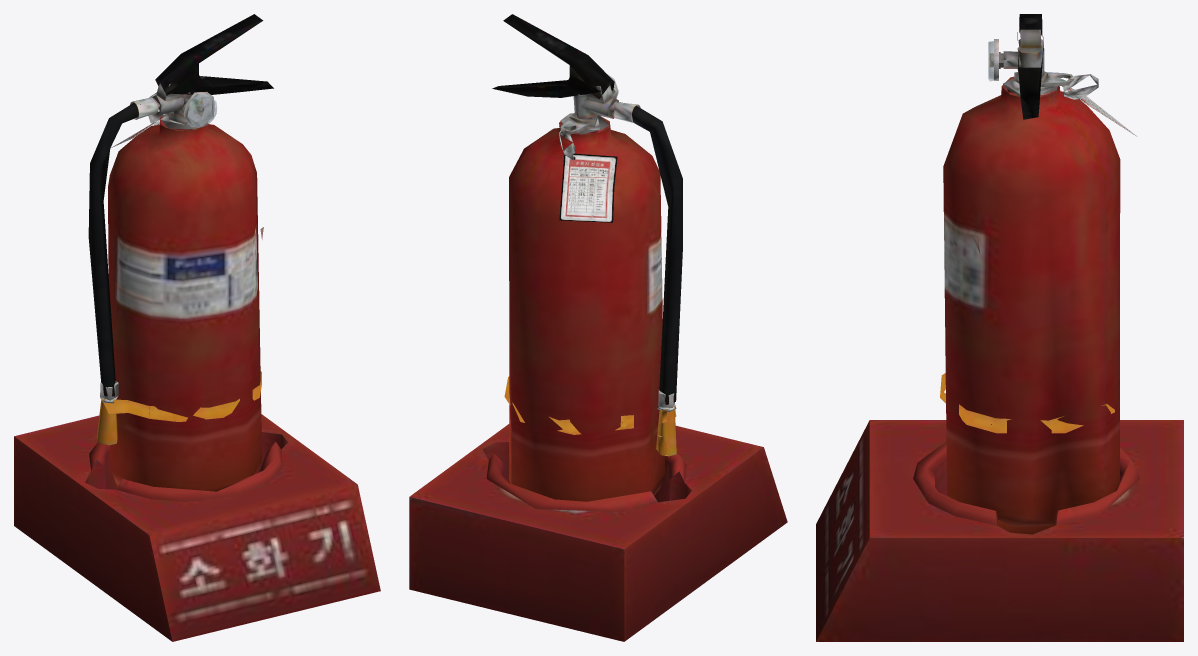
The model's file is korean_fire_extinguisher_01.glb.
3 renders of one model, left to right at view 1: azimuth 30°, elevation 25°; view 2: azimuth 150°, elevation 25°; view 3: azimuth 270°, elevation 25°, orthographic. The views are drawn at different scales.
Parts seen in each view (by area): view 1: korean_fire_extinguisher_01; view 2: korean_fire_extinguisher_01; view 3: korean_fire_extinguisher_01.
Boxes of the visible parts, left/top/right/bottom form: korean_fire_extinguisher_01: left=14, top=14, right=380, bottom=641; korean_fire_extinguisher_01: left=409, top=14, right=787, bottom=641; korean_fire_extinguisher_01: left=816, top=14, right=1183, bottom=641.
Size of the model in its own units: 0.279 by 0.6567 by 0.3674.
3 materials, 3 textured.
